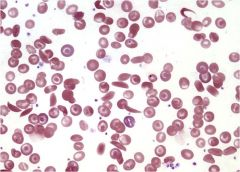redbloodcell: (58, 41, 76, 58), (19, 142, 35, 156), (177, 76, 191, 91), (85, 58, 99, 72), (228, 51, 240, 63)
sicklecell: (37, 47, 53, 66), (108, 139, 128, 152), (6, 100, 22, 112), (19, 106, 33, 119), (112, 80, 129, 89), (49, 93, 58, 107)
